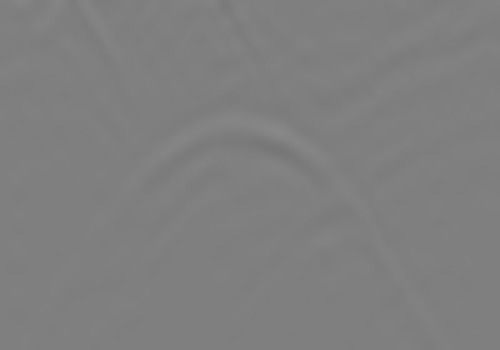hyperbola: (76, 109, 409, 315)
